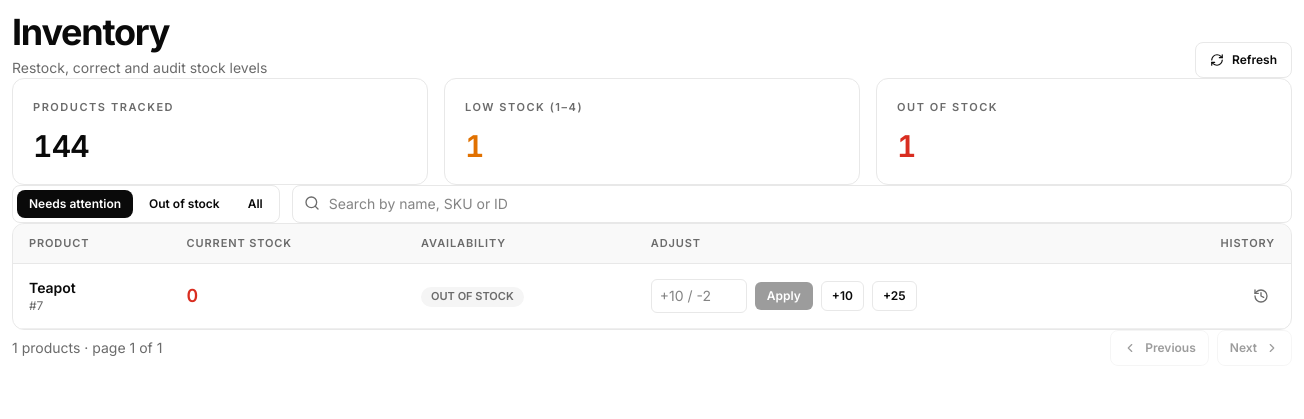
Test case: admin inventory › asks the server for low stock first and sends a relative restock
Expected: the text "Teapot" is shown, x1=29 y1=279 x2=76 y2=296
Step 1. Click the button "+10" → (842, 296), box x1=821 y1=281 x2=864 y2=311
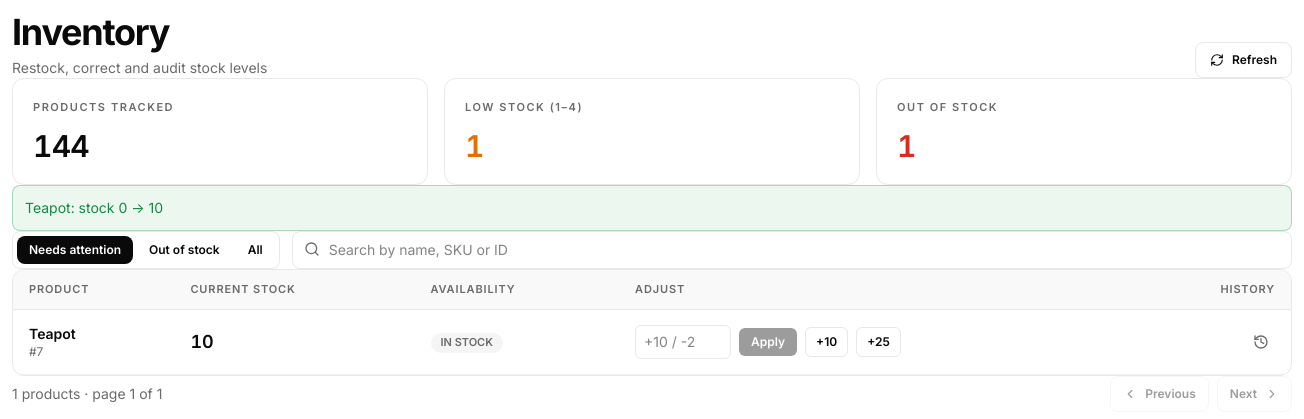
Expected: the text "Teapot: stock 0 → 10" is shown, x1=12 y1=184 x2=1292 y2=230
